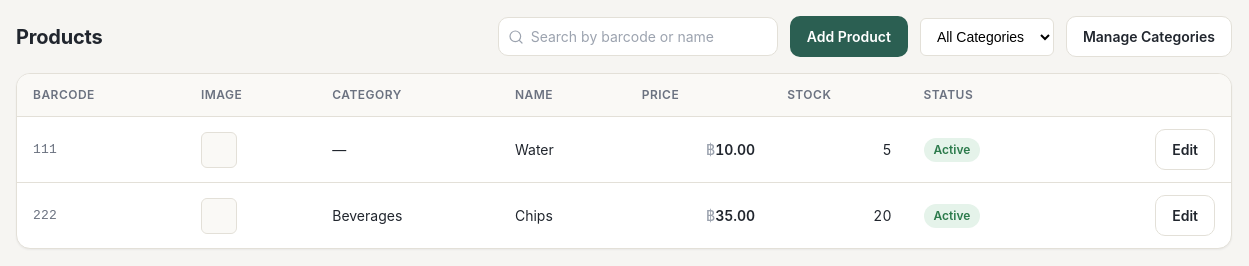
Test: ProductsPage › filters the product list by category
The width and height of the screenshot is (1249, 266).
Expected: the text "Water" is shown, [499, 116, 626, 182]
Expected: the text "Chips" is shown, [499, 182, 626, 248]
Select "Beverages" in the dropdown named "Filter by category": (987, 36) [920, 18, 1054, 56]
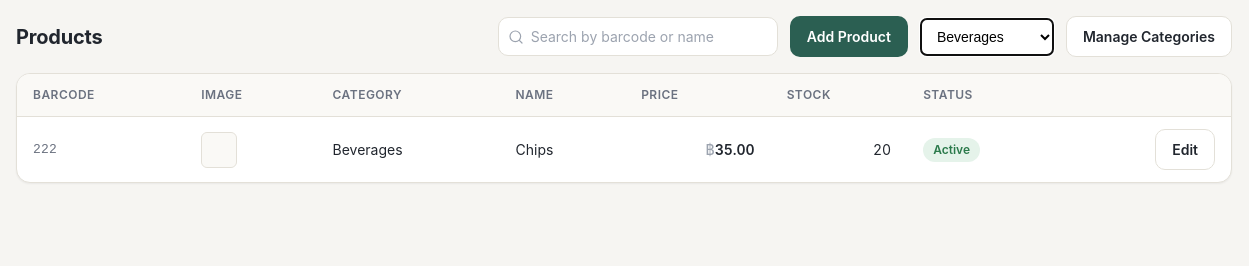
Expected: the text "Chips" is shown, [500, 116, 625, 182]
Expected: the text "Water" is gone
